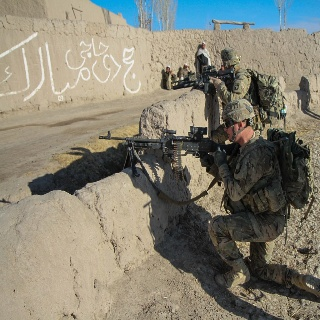rifle: (99, 126, 239, 178)
